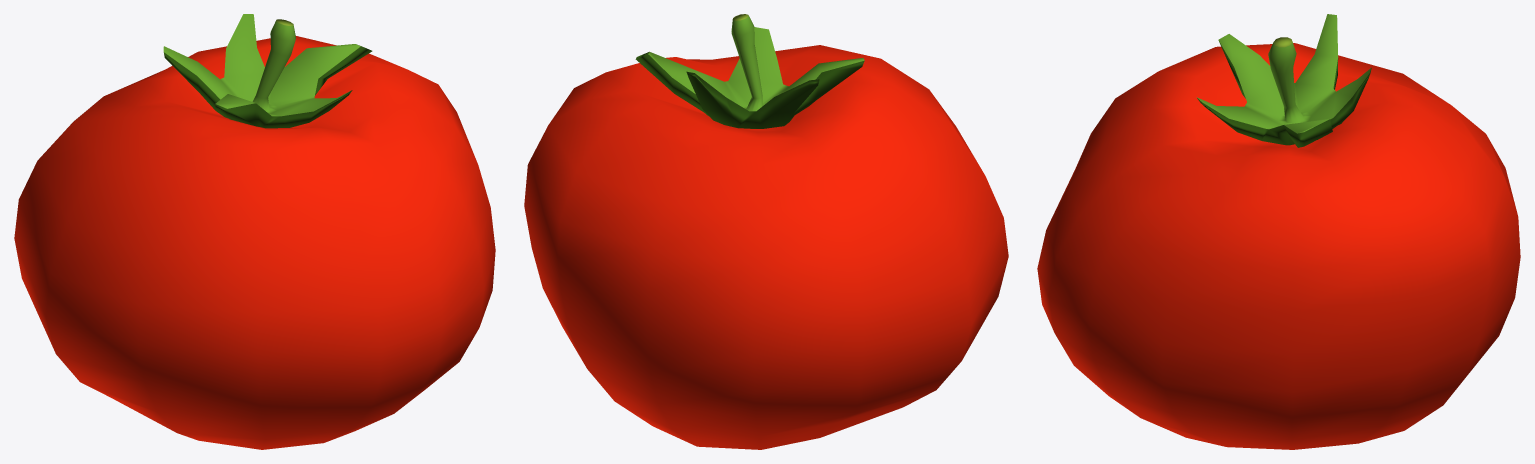
File: tomato.fbx
3 renders of one model, left to right at view 1: azimuth 30°, elevation 25°; view 2: azimuth 150°, elevation 25°; view 3: azimuth 270°, elevation 25°, orthographic. The views are drawn at different scales.
Visible parts, largest first — view 1: group3; view 2: group3; view 3: group3.
Boxes of the visible parts, bbox=[...] form: group3: bbox=[14, 14, 495, 449]; group3: bbox=[524, 14, 1008, 449]; group3: bbox=[1037, 14, 1520, 449].
Size of the model in its own units: 2.63 by 2.37 by 2.58.
